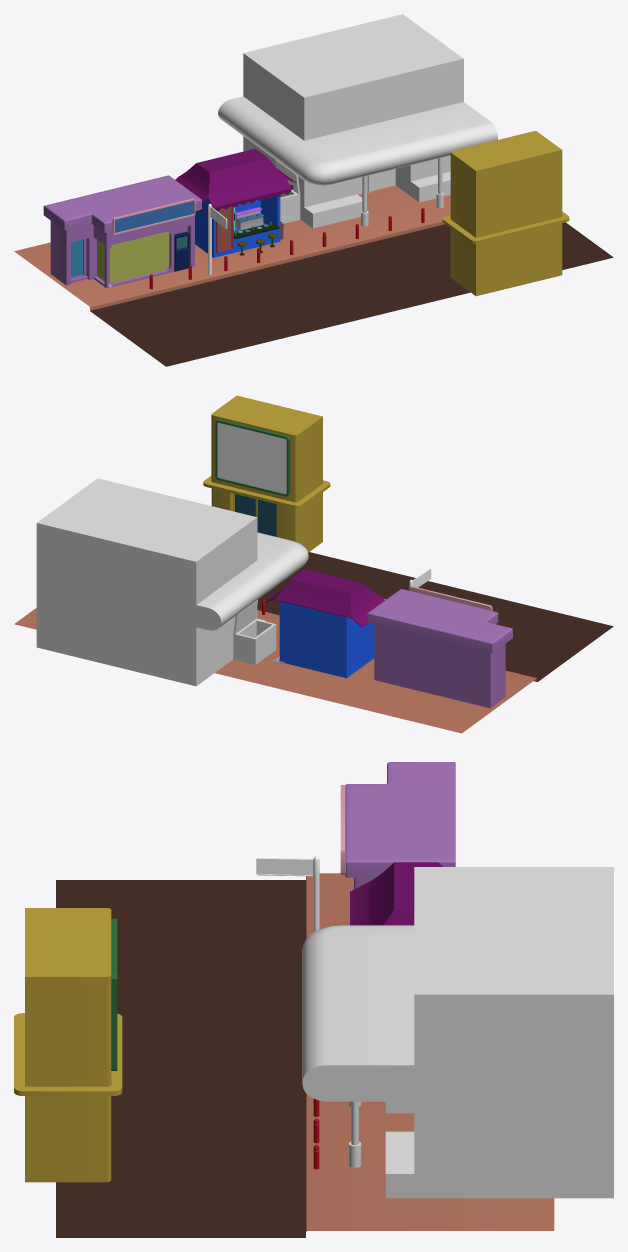
File: City.fbx
3 renders of one model, top to bottom at view 1: azimuth 30°, elevation 25°; view 2: azimuth 150°, elevation 25°; view 3: azimuth 270°, elevation 25°, orthographic. The views are drawn at different scales.
Parts seen in each view (by area): view 1: Club, Street, Cube, Store, Restaurant; view 2: Club, Street, Cube, Store, Restaurant; view 3: Street, Club, Cube, Store, Restaurant.
Boxes of the visible parts, <box> form: Club: <box>218,14,497,228</box>; Street: <box>14,185,613,366</box>; Cube: <box>442,131,569,296</box>; Store: <box>43,175,201,287</box>; Restaurant: <box>175,148,296,257</box>; Club: <box>36,478,308,686</box>; Street: <box>14,552,613,733</box>; Cube: <box>203,395,330,552</box>; Store: <box>367,586,512,708</box>; Restaurant: <box>264,569,386,678</box>; Street: <box>56,856,554,1237</box>; Club: <box>302,867,613,1198</box>; Cube: <box>14,908,122,1182</box>; Store: <box>340,762,455,889</box>; Restaurant: <box>350,862,442,925</box>.
Size of the model in its own units: 24.97 by 6.89 by 17.67.
